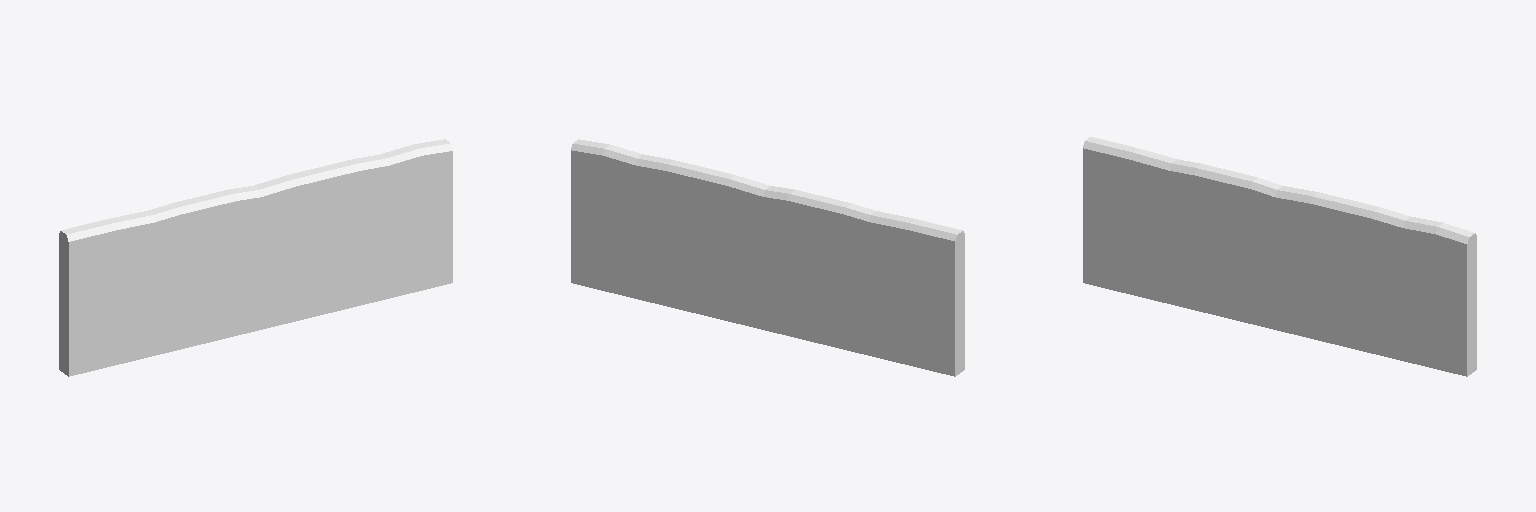
The model's file is oldwall2.obj.
3 renders of one model, left to right at view 1: azimuth 30°, elevation 25°; view 2: azimuth 150°, elevation 25°; view 3: azimuth 330°, elevation 25°, orthographic.
Parts seen in each view (by area): view 1: def_surf_mat; view 2: def_surf_mat; view 3: def_surf_mat.
Part boxes in pixels (x1,y1,x2,y2): def_surf_mat: (59, 139, 452, 376); def_surf_mat: (571, 139, 964, 376); def_surf_mat: (1083, 137, 1476, 376).
Size of the model in its own units: 231 by 80.55 by 10.35.